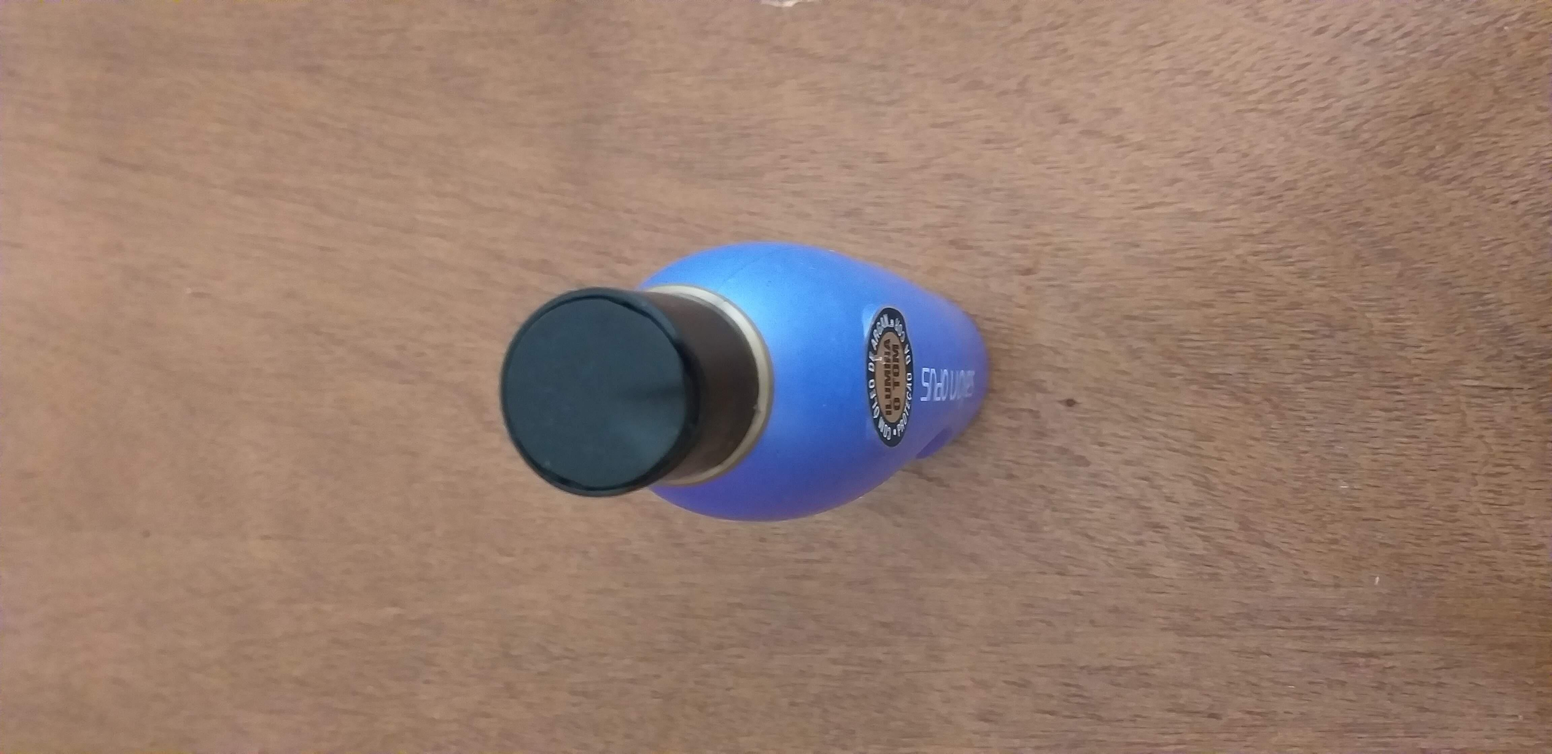gym bottle: (490, 232, 997, 535)
